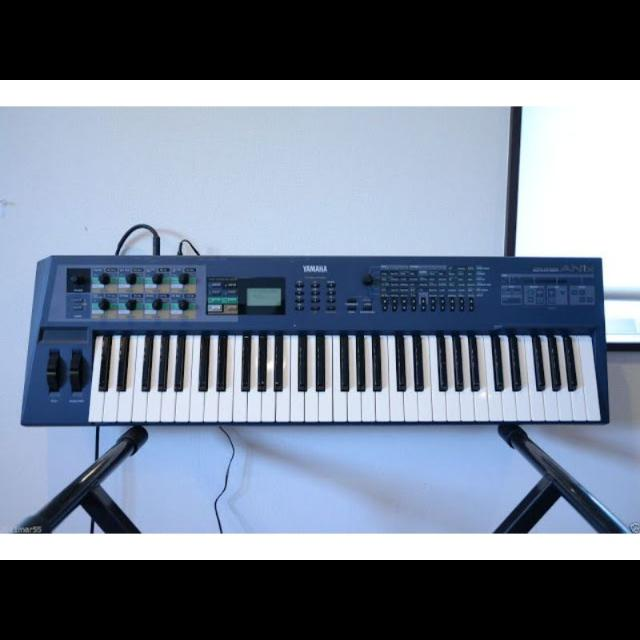Electronic-Keyboard: (12, 244, 618, 426)
